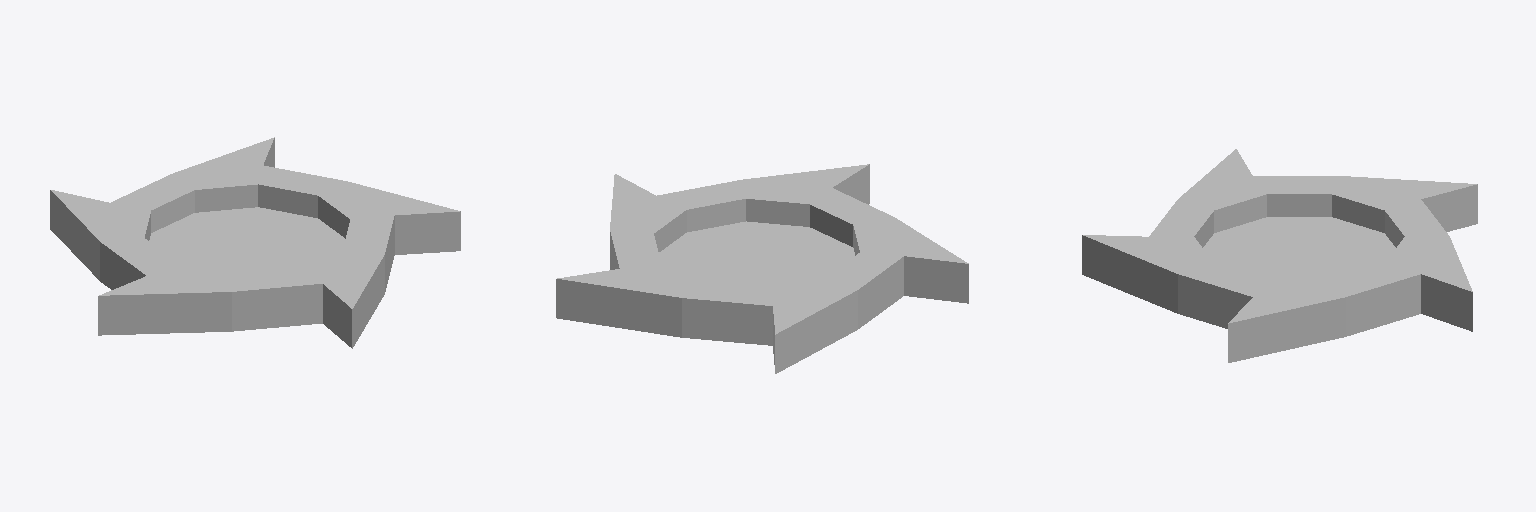
Rendered from 1Disc.obj.
3 renders of one model, left to right at view 1: azimuth 30°, elevation 25°; view 2: azimuth 150°, elevation 25°; view 3: azimuth 270°, elevation 25°, orthographic.
Visible parts, largest first — view 1: 1Disc; view 2: 1Disc; view 3: 1Disc.
Boxes of the visible parts, x1=… form: 1Disc: x1=50, y1=137, x2=460, y2=348; 1Disc: x1=556, y1=164, x2=968, y2=373; 1Disc: x1=1082, y1=149, x2=1477, y2=362.
Size of the model in its own units: 6.61 by 0.7004 by 6.33.